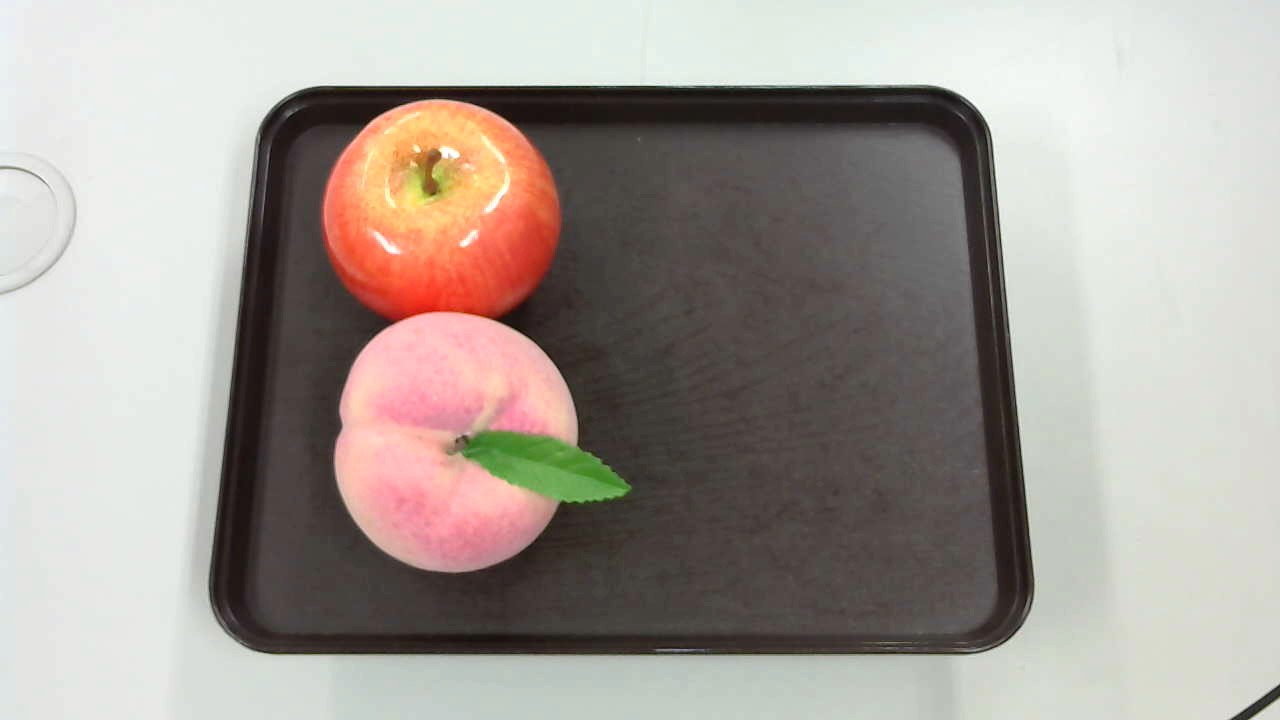peach: (328, 304, 635, 569)
red apple: (316, 97, 568, 323)
